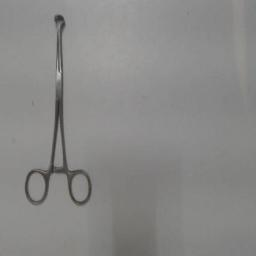Babcock Tissue Forceps: (24, 12, 94, 208)
